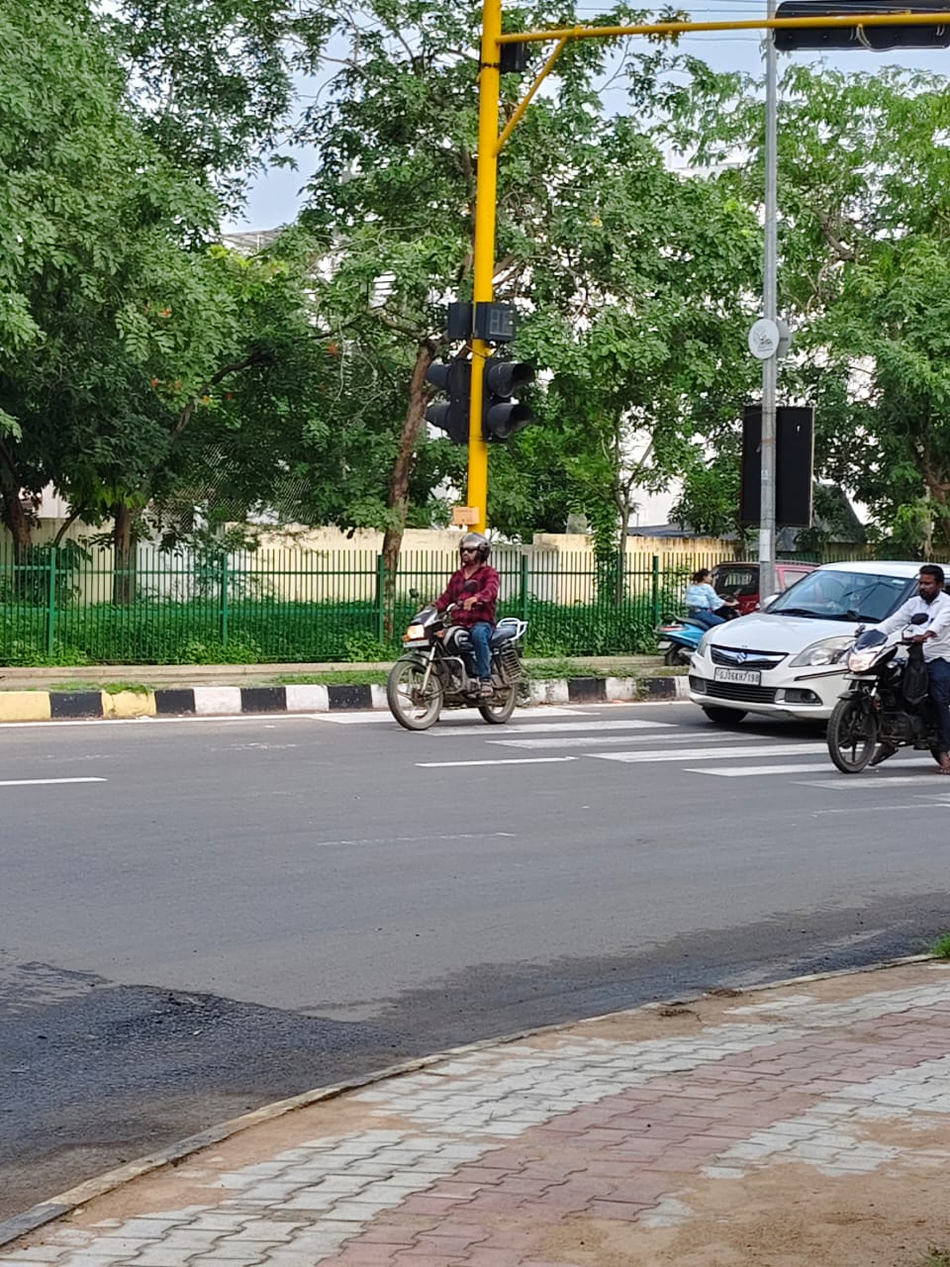BikeWithRider: (376, 529, 537, 736), (812, 555, 950, 782)
Helmet: (453, 532, 495, 568)
NoHelmet: (910, 559, 949, 602)
